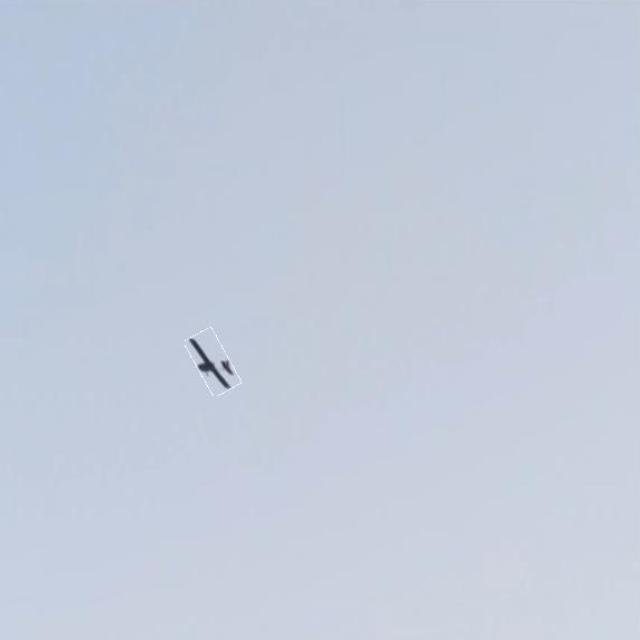plane: (187, 324, 242, 394)
